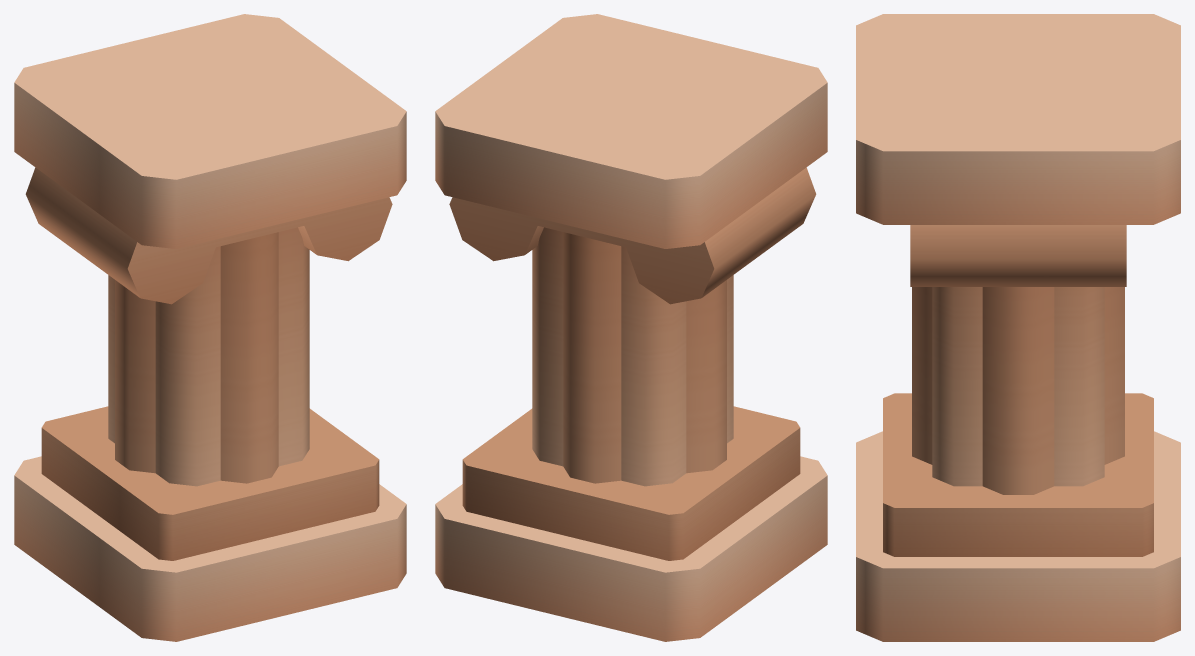
File: column.obj
3 renders of one model, left to right at view 1: azimuth 30°, elevation 25°; view 2: azimuth 150°, elevation 25°; view 3: azimuth 270°, elevation 25°, orthographic. The views are drawn at different scales.
Parts seen in each view (by area): view 1: column; view 2: column; view 3: column.
Part boxes in pixels (x1,y1,x2,y2): column: (14, 14, 406, 641); column: (435, 14, 827, 641); column: (856, 14, 1180, 641).
Bounding box in the file's own units: 0.6031 × 1 × 0.6.
Materials: 1 (1 with a texture image).
